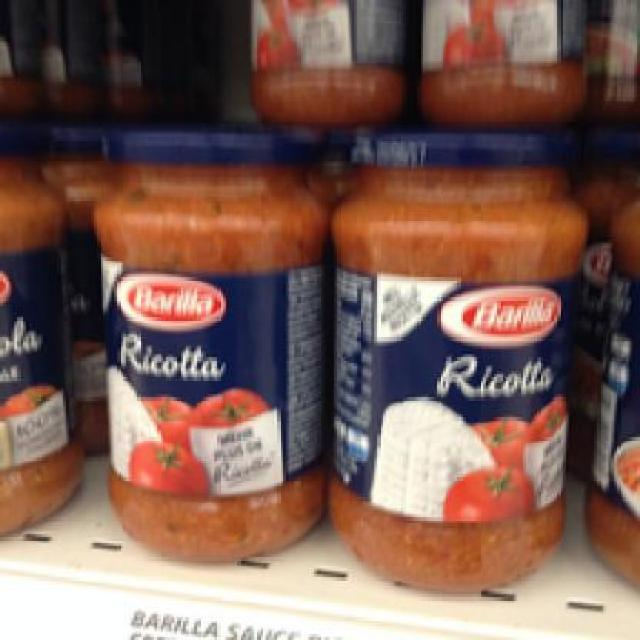Tomato Sauce: (326, 128, 586, 592), (89, 120, 328, 560)
